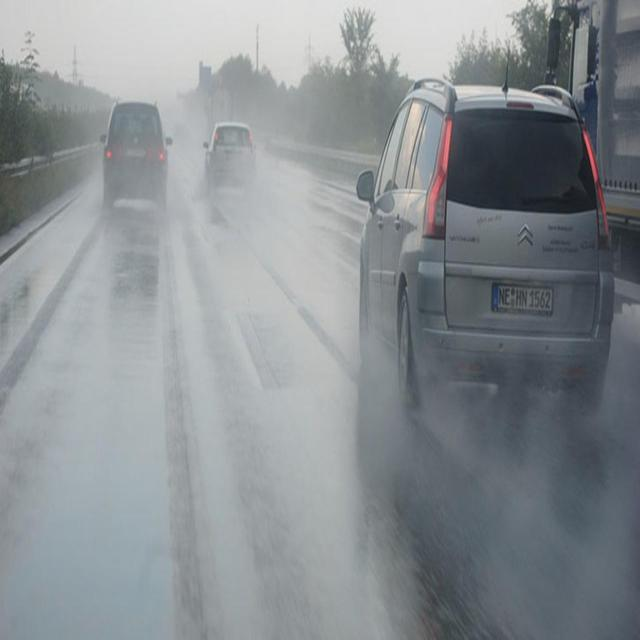Car: (334, 46, 626, 446), (100, 60, 171, 226), (202, 86, 269, 214)
